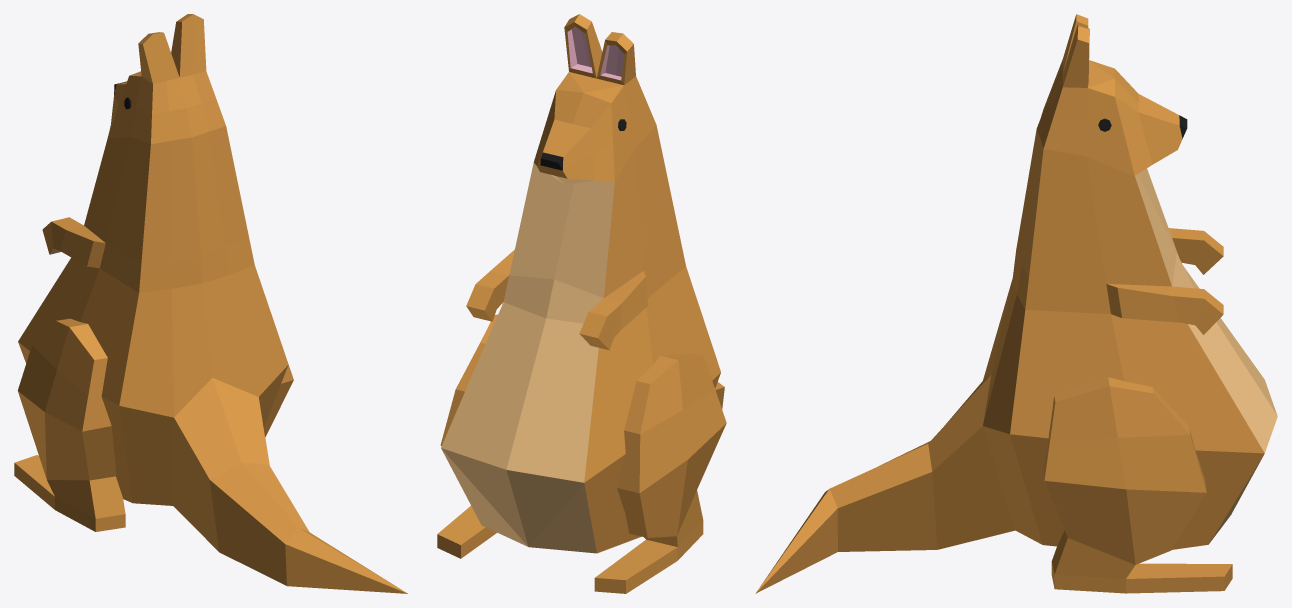
The model's file is kangaroo.obj.
3 renders of one model, left to right at view 1: azimuth 30°, elevation 25°; view 2: azimuth 150°, elevation 25°; view 3: azimuth 270°, elevation 25°, orthographic. The views are drawn at different scales.
Parts seen in each view (by area): view 1: Cube.027_Cube.025, Kangaroo_Cube.000; view 2: Cube.027_Cube.025, Kangaroo_Cube.000; view 3: Cube.027_Cube.025, Kangaroo_Cube.000.
Part boxes in pixels (<box>): Cube.027_Cube.025: <box>18,14,407,593</box>; Kangaroo_Cube.000: <box>14,97,293,531</box>; Cube.027_Cube.025: <box>441,14,724,553</box>; Kangaroo_Cube.000: <box>437,119,726,593</box>; Cube.027_Cube.025: <box>755,14,1277,593</box>; Kangaroo_Cube.000: <box>1043,118,1232,593</box>.
Size of the model in its own units: 4.58 by 10.08 by 8.96.
